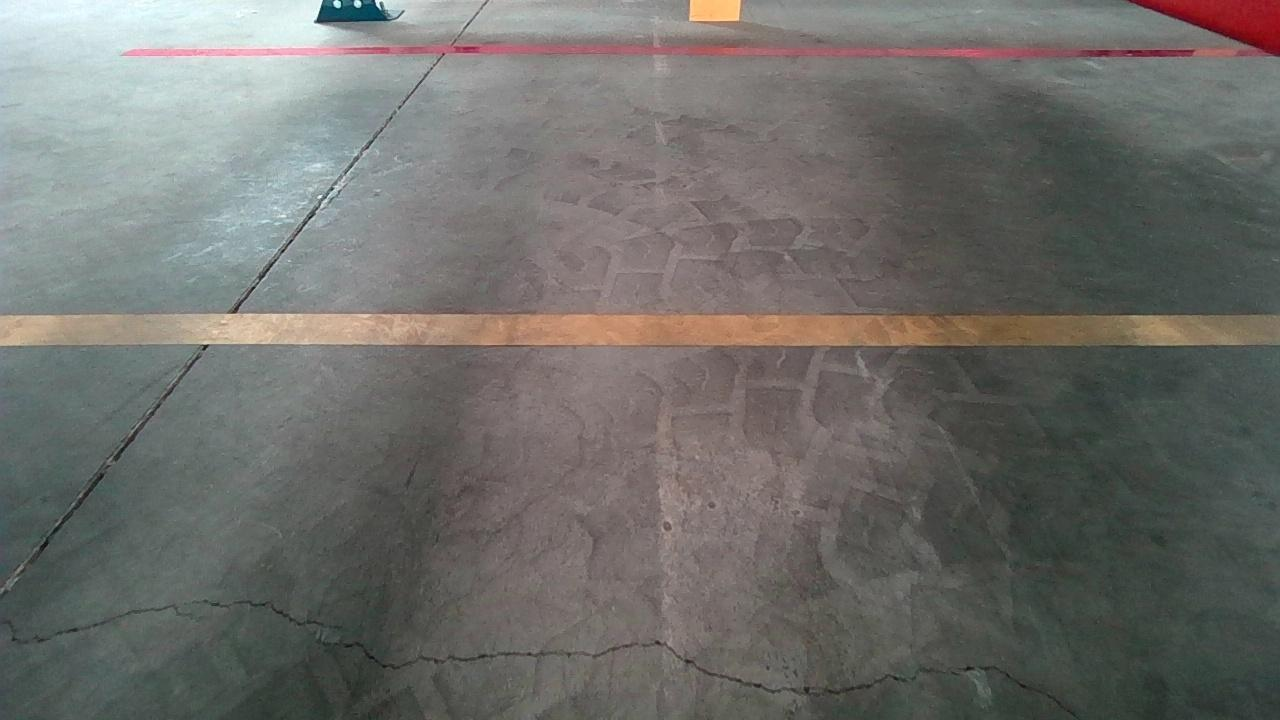orange_strip: (689, 0, 743, 23)
red_line: (138, 35, 1238, 65)
yellow_line: (27, 302, 1265, 356)
